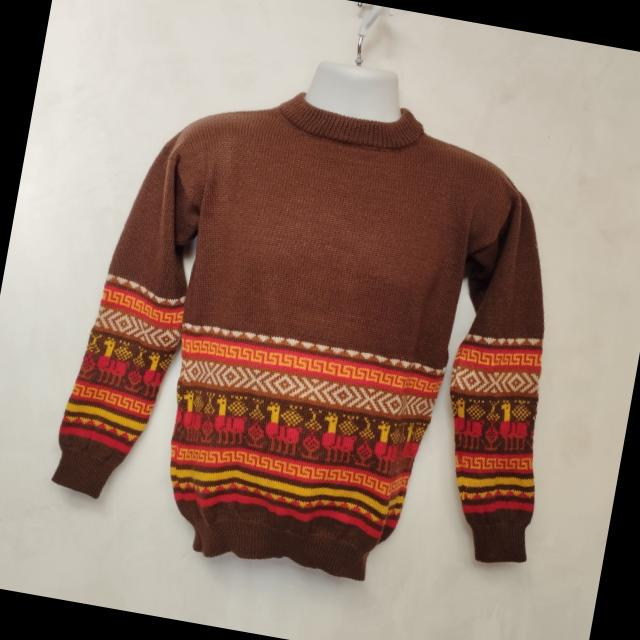Chompa: (41, 24, 606, 611)
